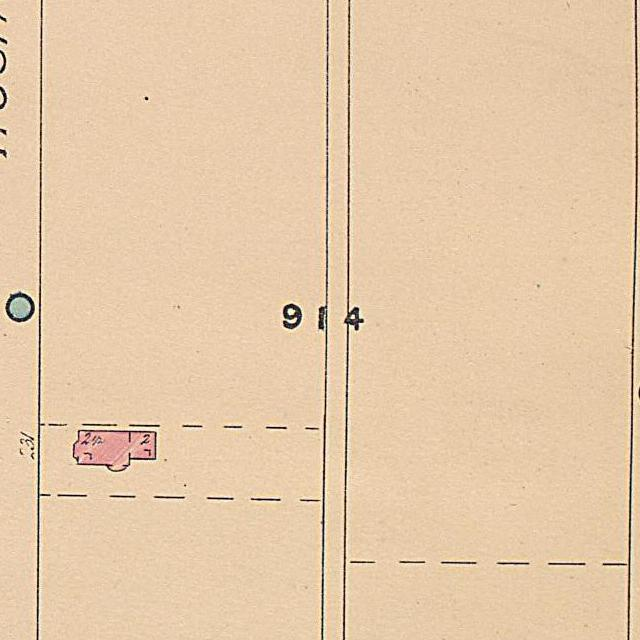building-footprints: (73, 431, 156, 471)
